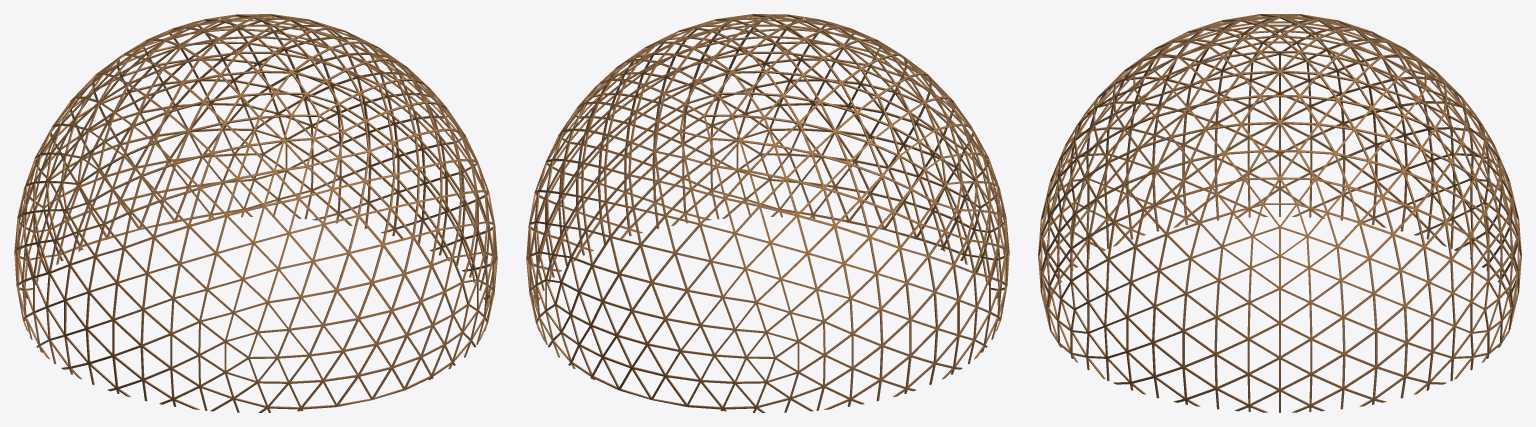
File: mesh_tut_timberlatis.glb
3 views of the same model, side by side, from view 1: azimuth 30°, elevation 25°; view 2: azimuth 150°, elevation 25°; view 3: azimuth 270°, elevation 25° (orthographic).
Visible parts, largest first — view 1: mesh_tut_timberlatis; view 2: mesh_tut_timberlatis; view 3: mesh_tut_timberlatis.
Part boxes in pixels (x1,y1,x2,y2): mesh_tut_timberlatis: [14, 14, 497, 412]; mesh_tut_timberlatis: [526, 14, 1009, 412]; mesh_tut_timberlatis: [1038, 14, 1521, 412].
Size of the model in its own units: 21.48 by 13.66 by 21.48.
1 material, 1 textured.
